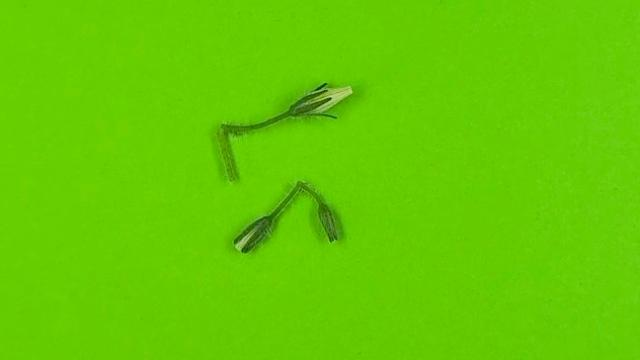Flower Bud: (288, 84, 355, 117), (290, 82, 353, 117), (233, 217, 273, 255), (314, 201, 338, 246), (318, 204, 338, 243)
